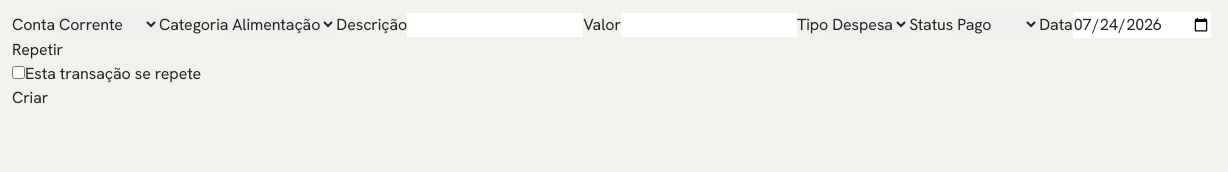
Test: TransactionForm › deve exibir seção de recorrência ao ativar o toggle
Expected: the text "tipo de recorrência" is not shown
Click the checkbox named "repetir": point(18, 72) 12,66 -> 25,79
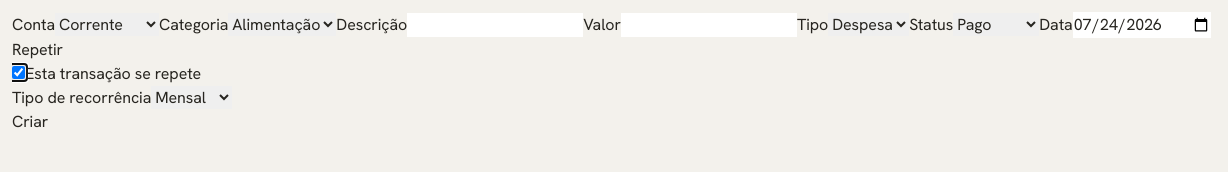
Result: the text "Tipo de recorrência" is shown at 12,87 -> 232,108
